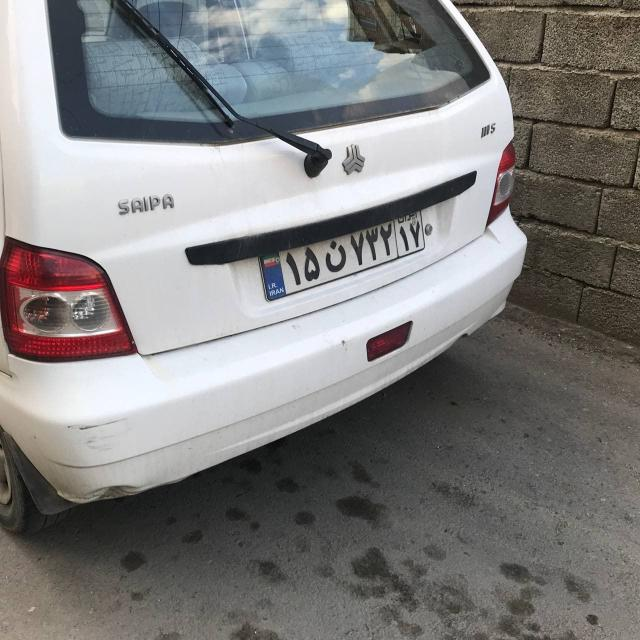Plates: (253, 200, 433, 301)
